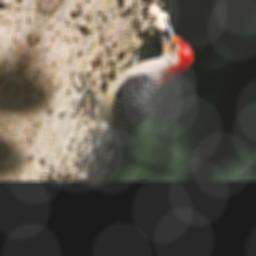Woodpecker: (41, 0, 207, 165)
